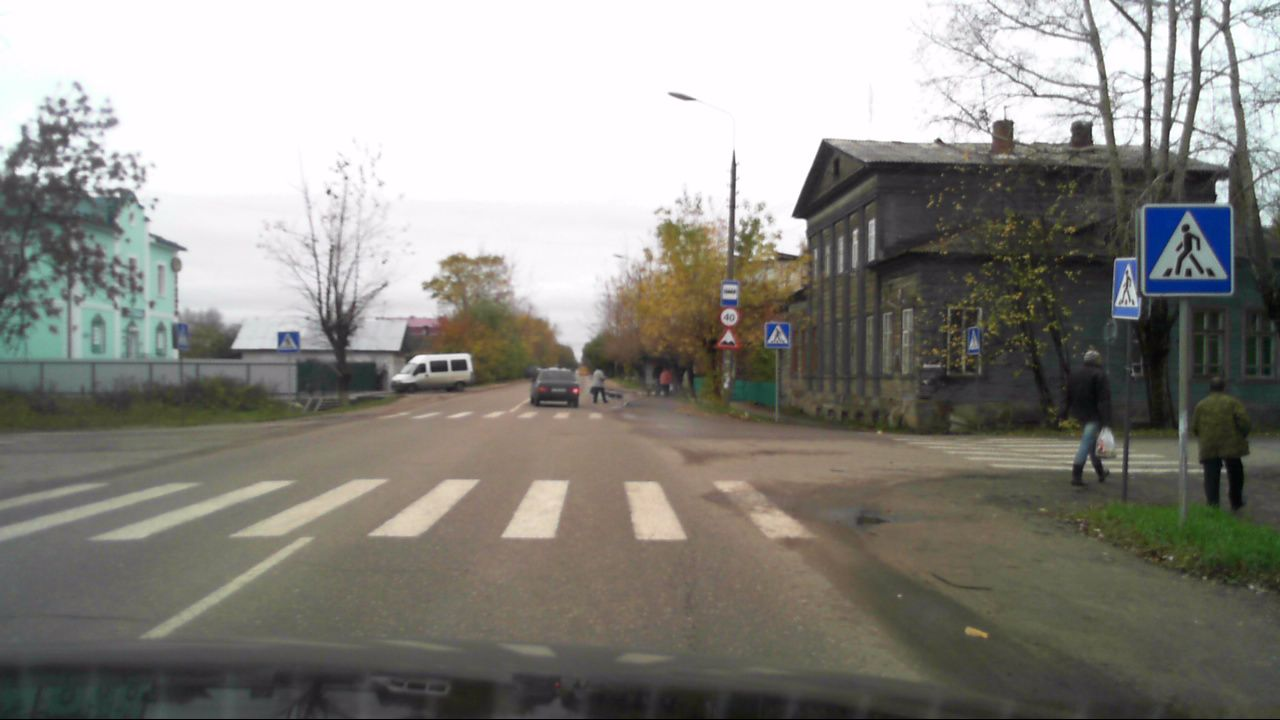speed_warning_40: (719, 307, 739, 327)
